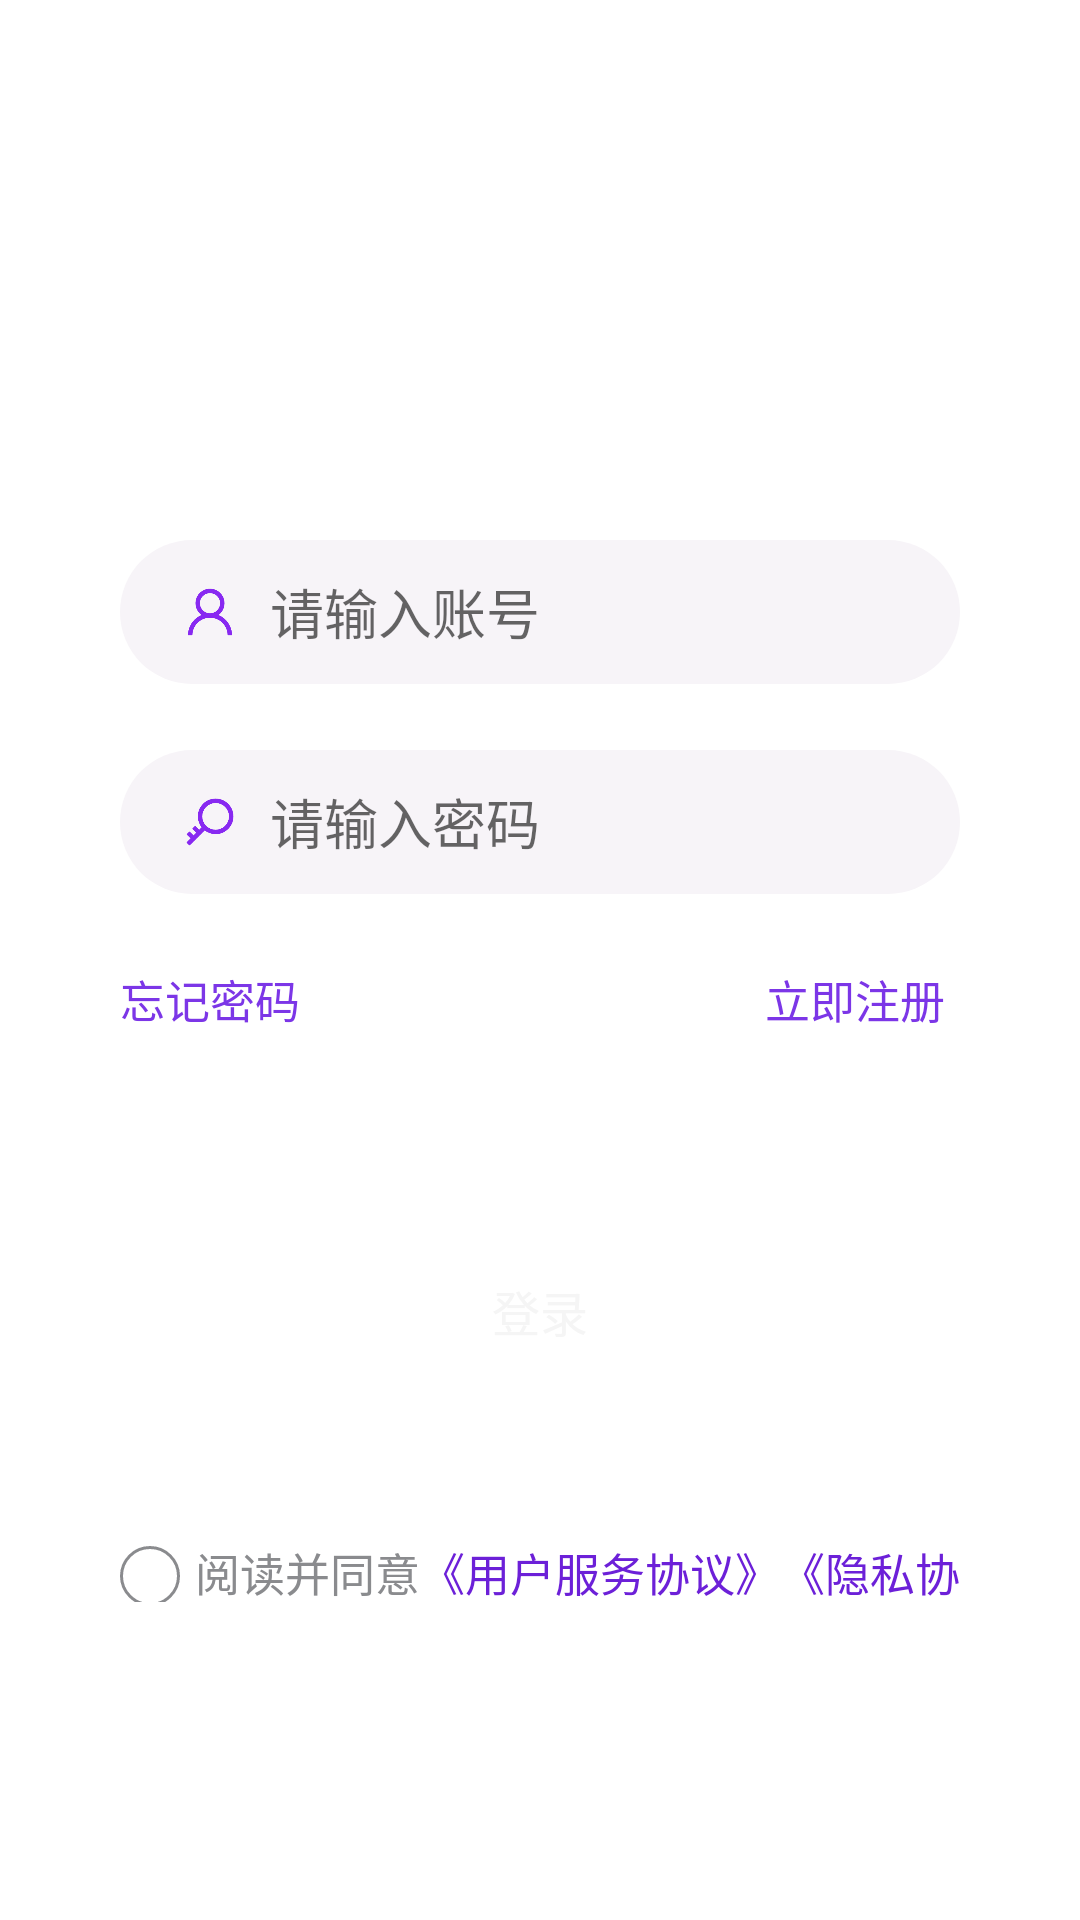

Icon bounding boxes for this 1080×1920 phone screenshot, format (x1, y1, x2, y2):
login account: (188, 589, 232, 636)
login password: (186, 798, 234, 846)
